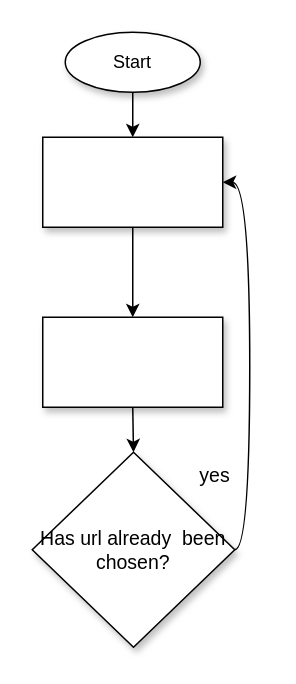
This 296x684 diagram has some shape labels left out. Here are the shapes that lost their labels. From the top down, the centre of each, then its label:
At point (133, 184): "Get json from unsplash".
At point (133, 364): "Rip regular url and user out".
